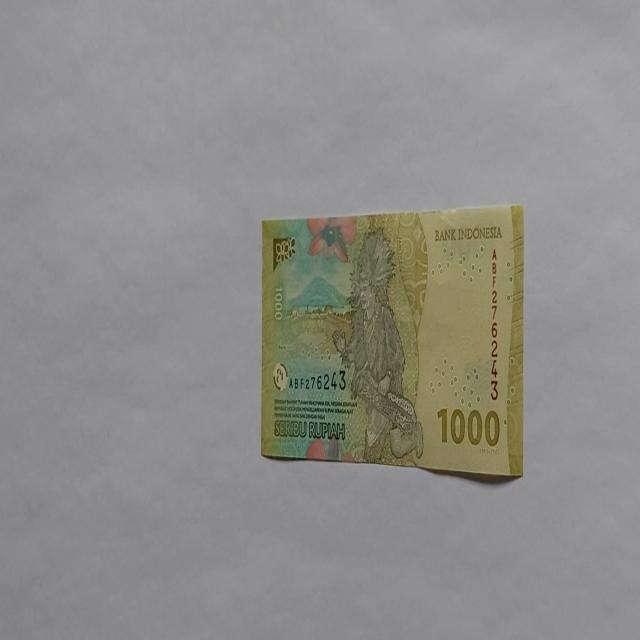seribu rupiah kertas: (260, 203, 524, 480)
